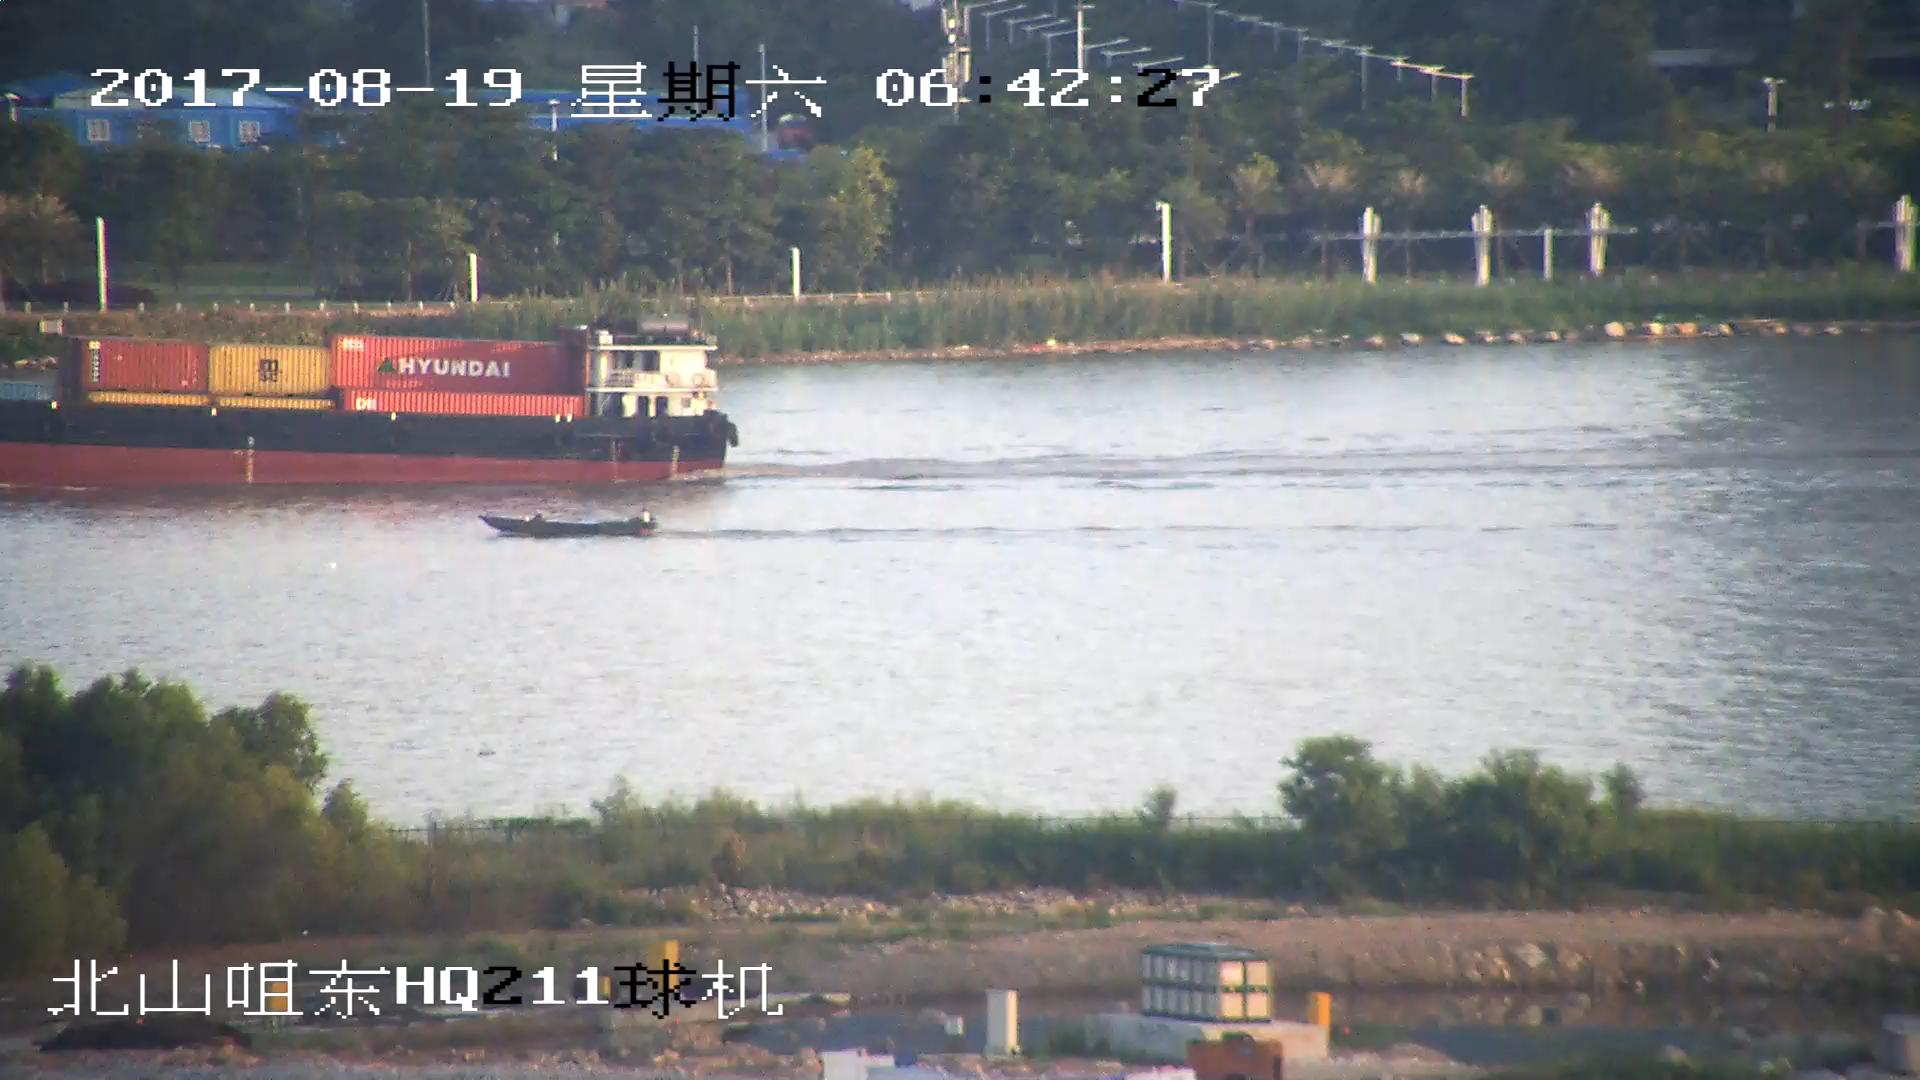container ship: (1, 311, 739, 487)
fishing boat: (472, 509, 659, 542)
